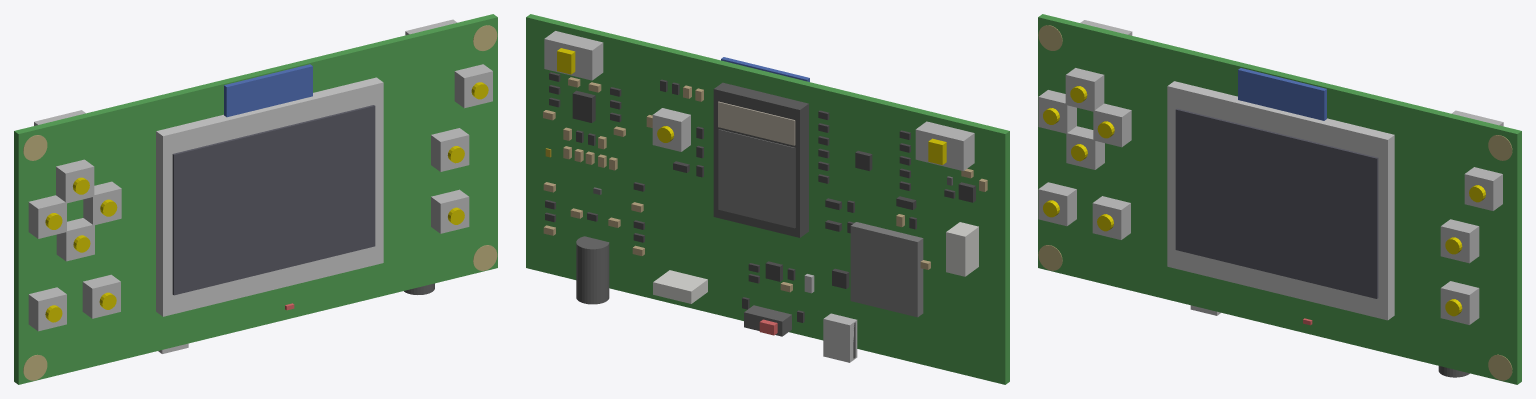
Rendered from esplay_micro_pcb.glb.
3 views of the same model, side by side, from view 1: azimuth 30°, elevation 25°; view 2: azimuth 150°, elevation 25°; view 3: azimuth 330°, elevation 25° (orthographic).
Visible parts, largest first — view 1: pcb, LCD1, S6, S7, S8, S9, S11, S4, S2, S5, S3, H2 (+3 smaller); view 2: pcb, A1, J1, S12, S10, J5, J4, J3, S1, J2, S13, U5 (+1 smaller); view 3: pcb, LCD1, S8, S11, S2, S6, S7, S9, S5, S3, S4, H1 (+3 smaller).
Boxes of the visible parts, x1,y1,x2,y2 form: pcb: [14, 14, 497, 384]; LCD1: [156, 64, 383, 316]; S6: [82, 274, 120, 318]; S7: [28, 287, 66, 331]; S8: [431, 128, 469, 171]; S9: [454, 64, 492, 108]; S11: [431, 189, 469, 233]; S4: [28, 195, 66, 238]; S2: [56, 159, 94, 203]; S5: [83, 181, 121, 225]; S3: [56, 218, 94, 261]; H2: [23, 135, 47, 160]; pcb: [526, 14, 1009, 384]; A1: [713, 82, 808, 237]; J1: [850, 222, 923, 317]; S12: [544, 31, 603, 80]; S10: [915, 121, 974, 171]; J5: [576, 236, 609, 304]; J4: [946, 222, 978, 276]; J3: [823, 313, 857, 362]; S1: [652, 108, 690, 151]; J2: [653, 270, 707, 303]; S13: [744, 305, 791, 336]; U5: [572, 90, 595, 122]; pcb: [1038, 14, 1521, 384]; LCD1: [1167, 68, 1394, 320]; S8: [1440, 219, 1479, 263]; S11: [1440, 281, 1479, 324]; S2: [1065, 68, 1104, 111]; S6: [1092, 196, 1130, 239]; S7: [1038, 182, 1076, 226]; S9: [1464, 167, 1502, 210]; S5: [1093, 103, 1131, 147]; S3: [1066, 126, 1104, 169]; S4: [1038, 90, 1076, 133]; H1: [1038, 245, 1062, 270].
Size of the model in its own units: 100 by 51.85 by 12.1.
